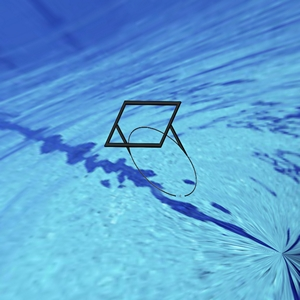circle: (103, 97, 198, 198)
